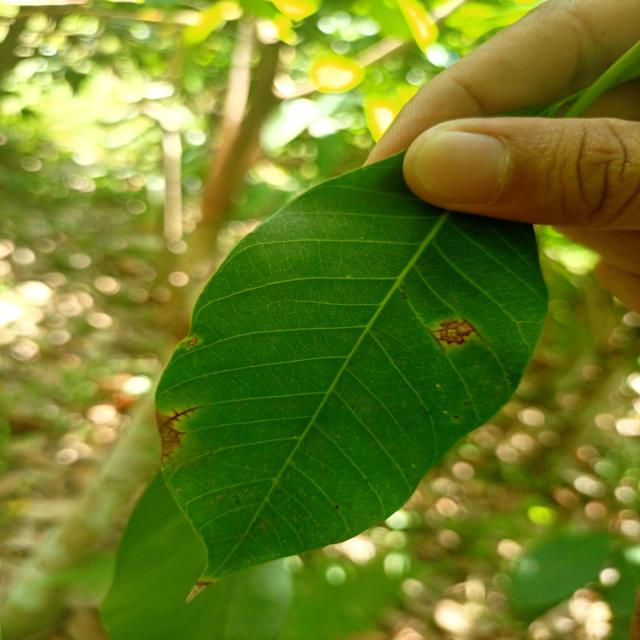Colletotrichum: (464, 402, 469, 405), (453, 416, 459, 418), (271, 339, 273, 342)
Corynespora: (428, 314, 487, 352), (171, 405, 206, 423)
Leaf-Blight: (156, 410, 186, 460), (188, 337, 197, 345)
